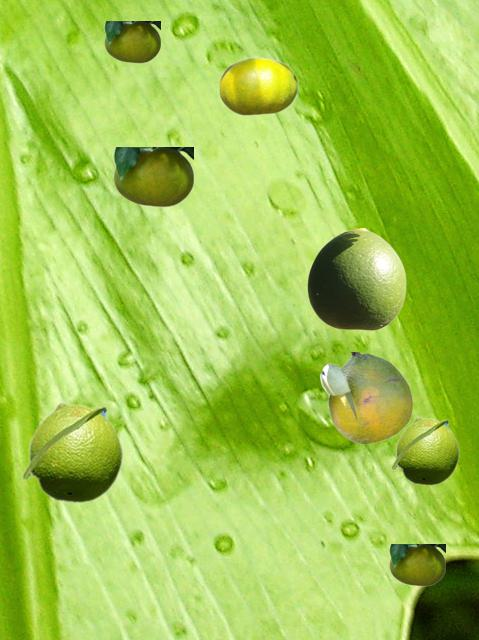dalandan: (20, 401, 123, 503), (307, 228, 405, 329), (319, 352, 412, 443), (390, 416, 459, 485), (218, 56, 297, 115), (113, 147, 192, 206), (104, 21, 159, 62), (389, 544, 444, 585)
